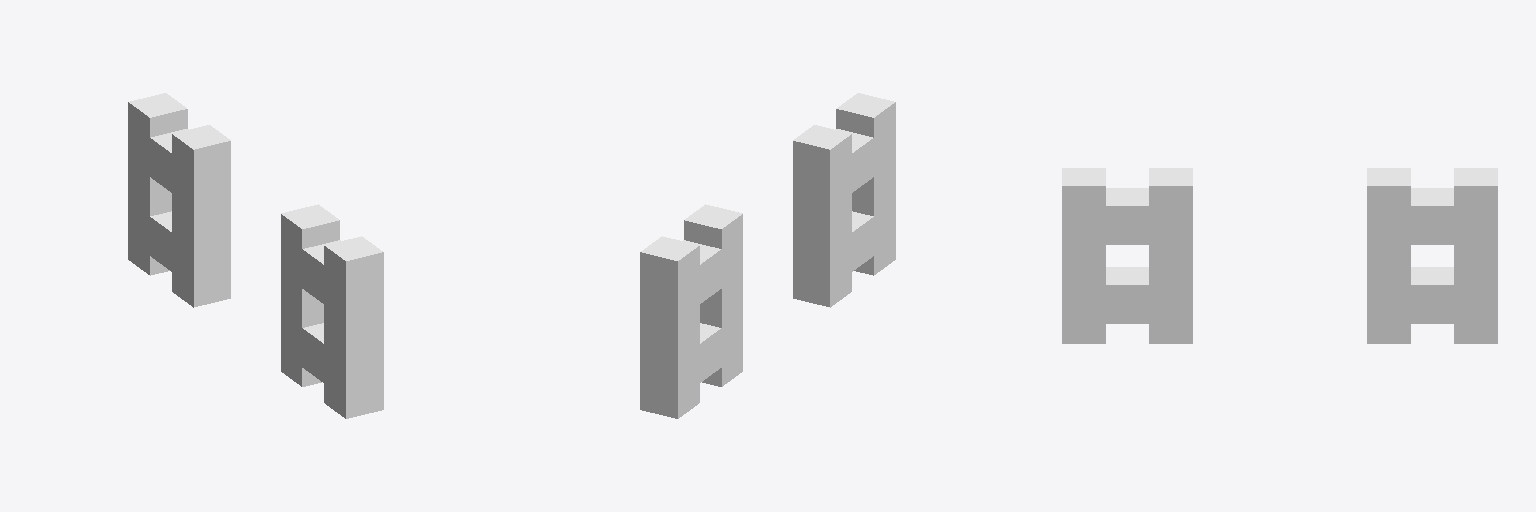
File: wall_without_door.obj
The picture shows the model from 3 angles: view 1: azimuth 30°, elevation 25°; view 2: azimuth 150°, elevation 25°; view 3: azimuth 270°, elevation 25°; orthographic projection.
Visible parts, largest first — view 1: object 1; view 2: object 1; view 3: object 1.
Part boxes in pixels (left/top/right/bottom): object 1: left=128, top=93, right=383, bottom=418; object 1: left=640, top=93, right=895, bottom=418; object 1: left=1062, top=168, right=1497, bottom=343.
Size of the model in its own units: 0.2 by 0.8 by 2.